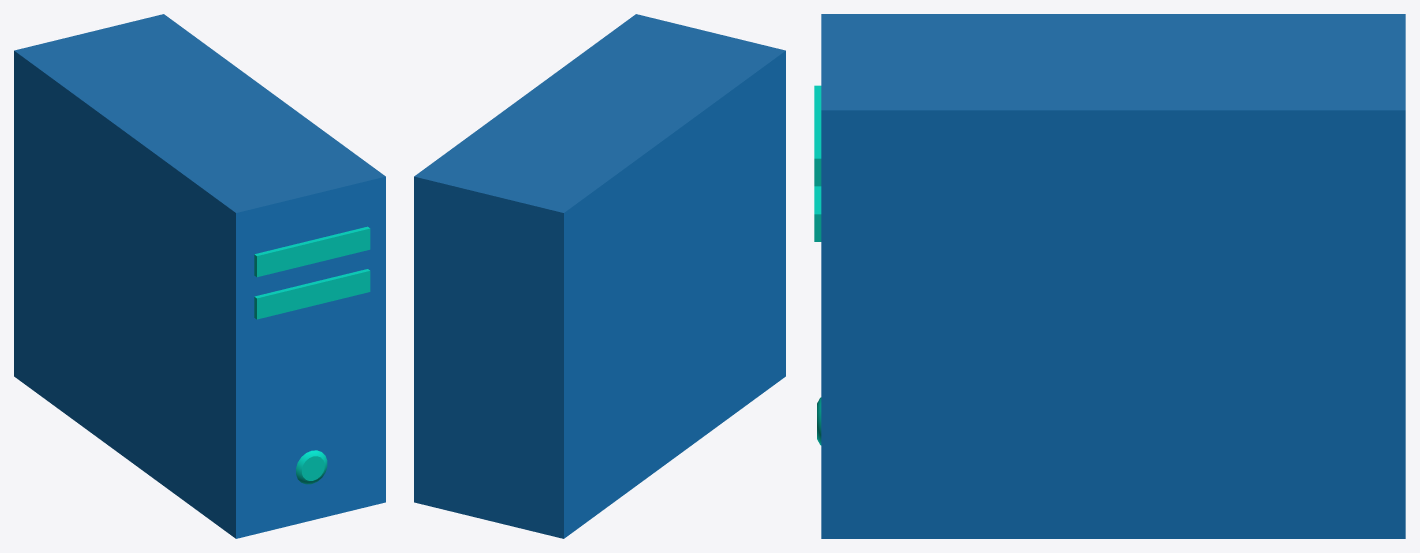
File: host.gltf
The picture shows the model from 3 angles, left to right: view 1: azimuth 30°, elevation 25°; view 2: azimuth 150°, elevation 25°; view 3: azimuth 270°, elevation 25°; orthographic projection. The views are drawn at different scales.
Visible parts, largest first — view 1: 对象421, 对象423, 对象424, 对象425, 对象422; view 2: 对象421, 对象423; view 3: 对象421, 对象423, 对象425.
Part boxes in pixels (<box>): 对象421: <box>14,51,385,538</box>; 对象423: <box>14,14,385,212</box>; 对象424: <box>254,269,370,319</box>; 对象425: <box>254,226,370,277</box>; 对象422: <box>296,450,327,484</box>; 对象421: <box>414,51,785,538</box>; 对象423: <box>414,14,785,212</box>; 对象421: <box>821,110,1405,538</box>; 对象423: <box>821,14,1405,110</box>; 对象425: <box>814,85,821,186</box>.
Size of the model in its own units: 0.2454 by 0.5101 by 0.6374.
